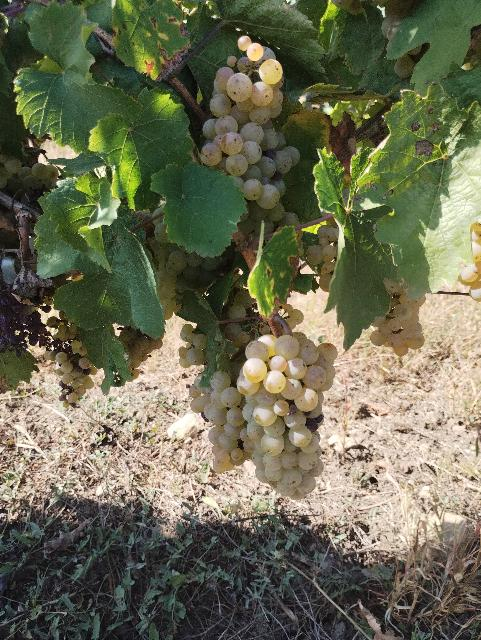grapes: (200, 35, 300, 235), (238, 331, 338, 500), (189, 370, 252, 474)
